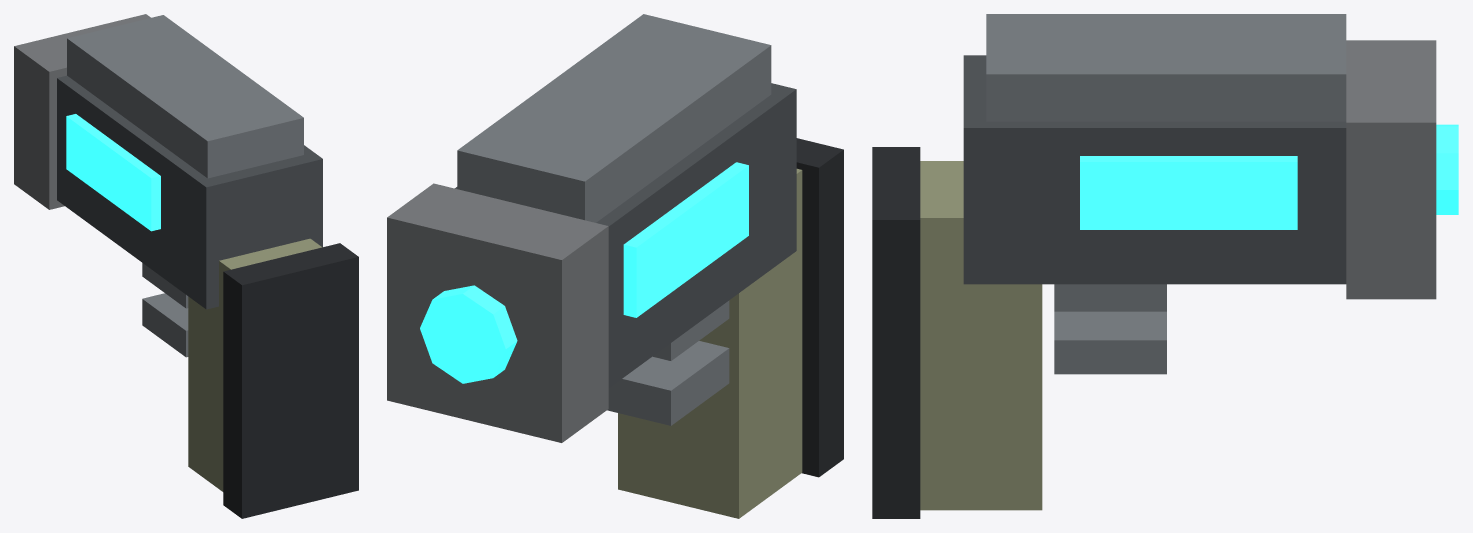
The model's file is pistol.glb.
The picture shows the model from 3 angles, left to right: view 1: azimuth 30°, elevation 25°; view 2: azimuth 150°, elevation 25°; view 3: azimuth 270°, elevation 25°; orthographic projection. The views are drawn at different scales.
Visible parts, largest first — view 1: pistol_grip_backstrap, pistol_main_slide, pistol_top_rail, pistol_front_muzzle_block, pistol_olive_grip, pistol_side_energy_left, pistol_trigger_guard_bottom, pistol_trigger_guard_top; view 2: pistol_front_muzzle_block, pistol_top_rail, pistol_olive_grip, pistol_main_slide, pistol_grip_backstrap, pistol_side_energy_left, pistol_cyan_muzzle, pistol_trigger_guard_bottom, pistol_trigger_guard_top; view 3: pistol_main_slide, pistol_top_rail, pistol_olive_grip, pistol_front_muzzle_block, pistol_grip_backstrap, pistol_side_energy_right, pistol_trigger_guard_bottom, pistol_trigger_guard_top, pistol_cyan_muzzle.
Boxes of the visible parts, x1,y1,x2,y2 form: pistol_grip_backstrap: (223, 243, 358, 518); pistol_main_slide: (57, 75, 322, 309); pistol_top_rail: (67, 15, 303, 178); pistol_front_muzzle_block: (14, 14, 150, 209); pistol_olive_grip: (188, 238, 321, 491); pistol_side_energy_left: (66, 114, 160, 231); pistol_trigger_guard_bottom: (142, 293, 188, 357); pistol_trigger_guard_top: (142, 263, 188, 308); pistol_front_muzzle_block: (387, 183, 608, 442); pistol_top_rail: (457, 14, 771, 222); pistol_olive_grip: (618, 168, 802, 518); pistol_main_slide: (455, 83, 796, 388); pistol_grip_backstrap: (796, 138, 843, 477); pistol_side_energy_left: (623, 162, 748, 317); pistol_cyan_muzzle: (420, 285, 517, 383); pistol_trigger_guard_bottom: (607, 341, 729, 425); pistol_trigger_guard_top: (653, 300, 729, 360); pistol_main_slide: (963, 55, 1346, 284); pistol_top_rail: (986, 14, 1346, 121); pistol_olive_grip: (920, 161, 1042, 510); pistol_front_muzzle_block: (1346, 40, 1436, 299); pistol_grip_backstrap: (872, 147, 920, 518); pistol_side_energy_right: (1080, 156, 1297, 229); pistol_trigger_guard_bottom: (1054, 311, 1166, 374); pistol_trigger_guard_top: (1054, 284, 1166, 311); pistol_cyan_muzzle: (1436, 124, 1458, 214).
Bounding box in the file's own units: 0.134 × 0.3225 × 0.391.
